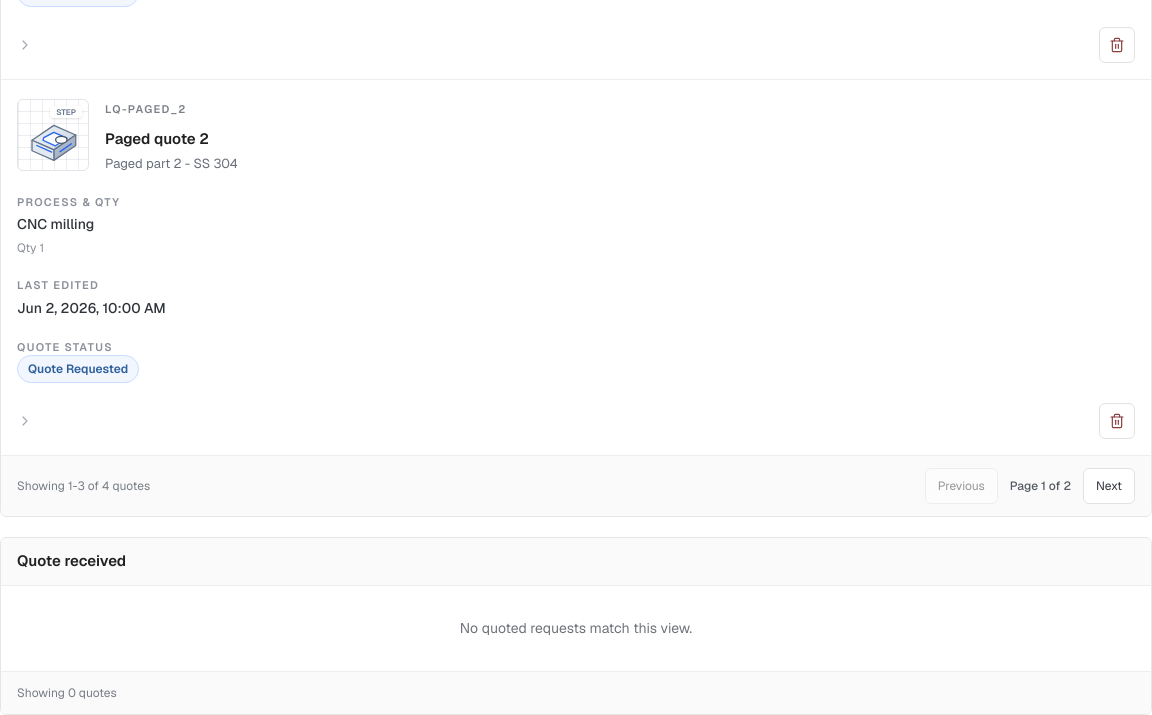
BuyerQuotes › paginates quote tables in groups of three newest-edited rows
The image size is (1152, 715).
(page scrolled)
Expected: the heading "Paged quote 2" is shown, [105,128,209,148]
Expected: the text "Paged quote 1" is not shown
Click the button "Next" at (1109, 486), box [1083,468,1135,504]
(page scrolled)
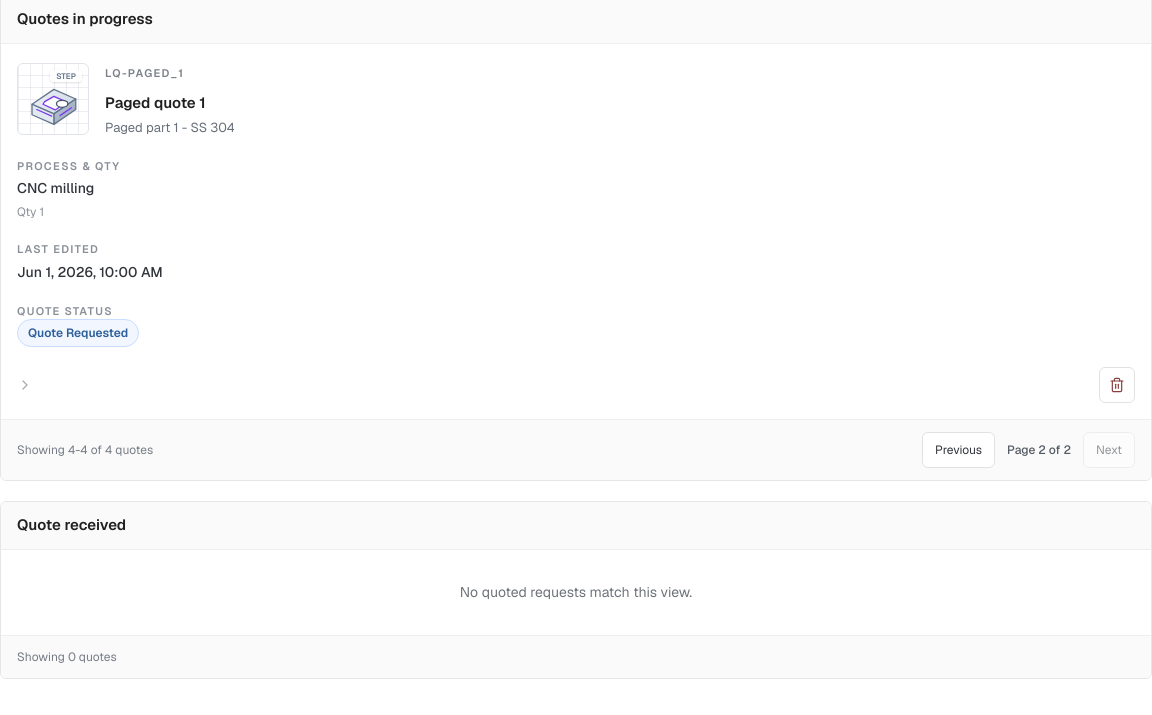
Result: the heading "Paged quote 1" is shown at [105,92,206,112]
Result: the text "Showing 4-4 of 4 quotes" is shown at [17,441,153,459]
Result: the text "Page 2 of 2" is shown at [1003,441,1075,459]
